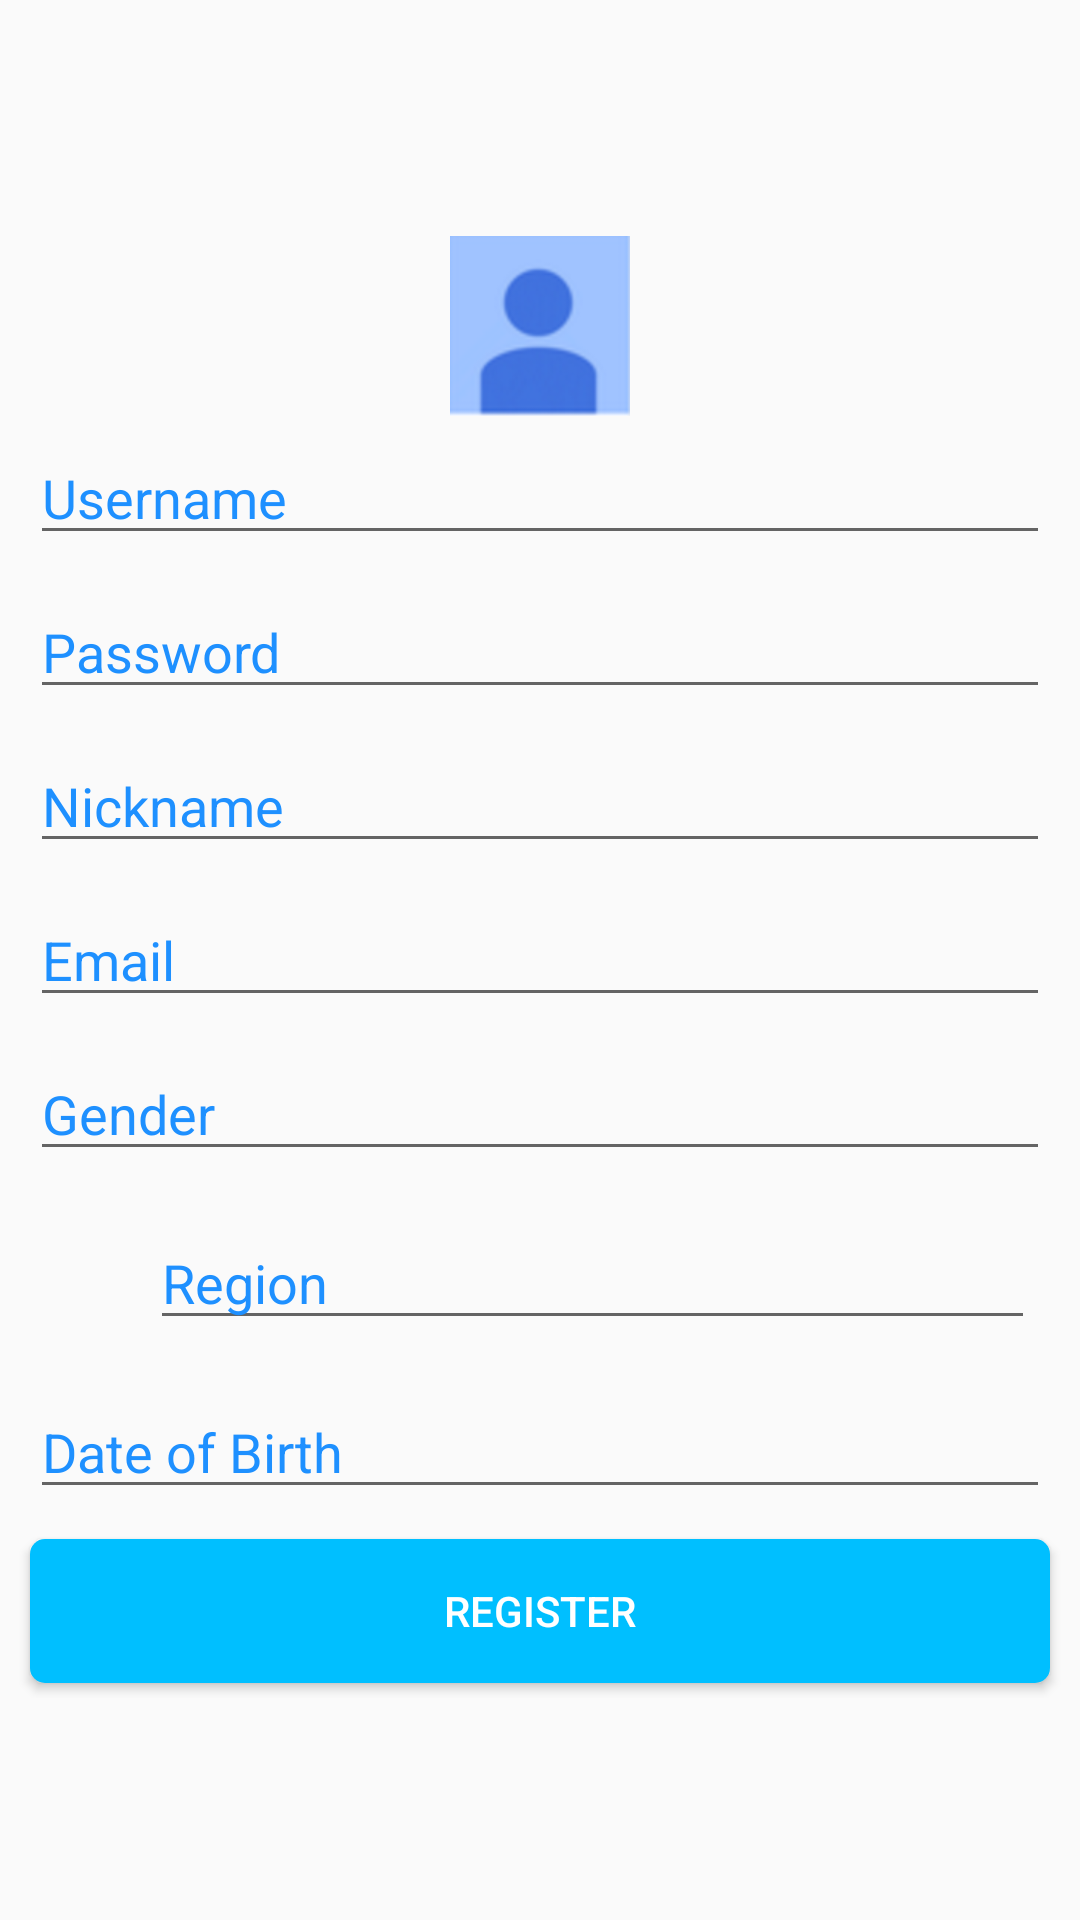

Locate icon controls on the screen. Image size 1080*1920, boxes as rect(x1, y1, x2, y2).
initial profie: rect(450, 236, 630, 416)
